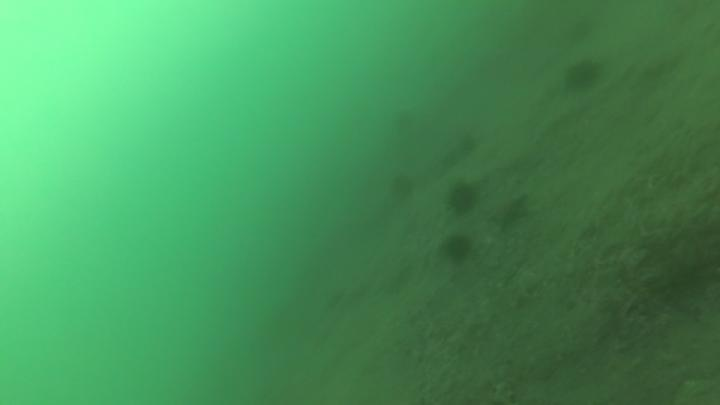echinus: (561, 56, 604, 94), (445, 179, 481, 217), (439, 231, 475, 265), (563, 13, 598, 45), (386, 171, 418, 204), (390, 105, 422, 138), (455, 131, 481, 157)
starfish: (484, 189, 532, 232)
